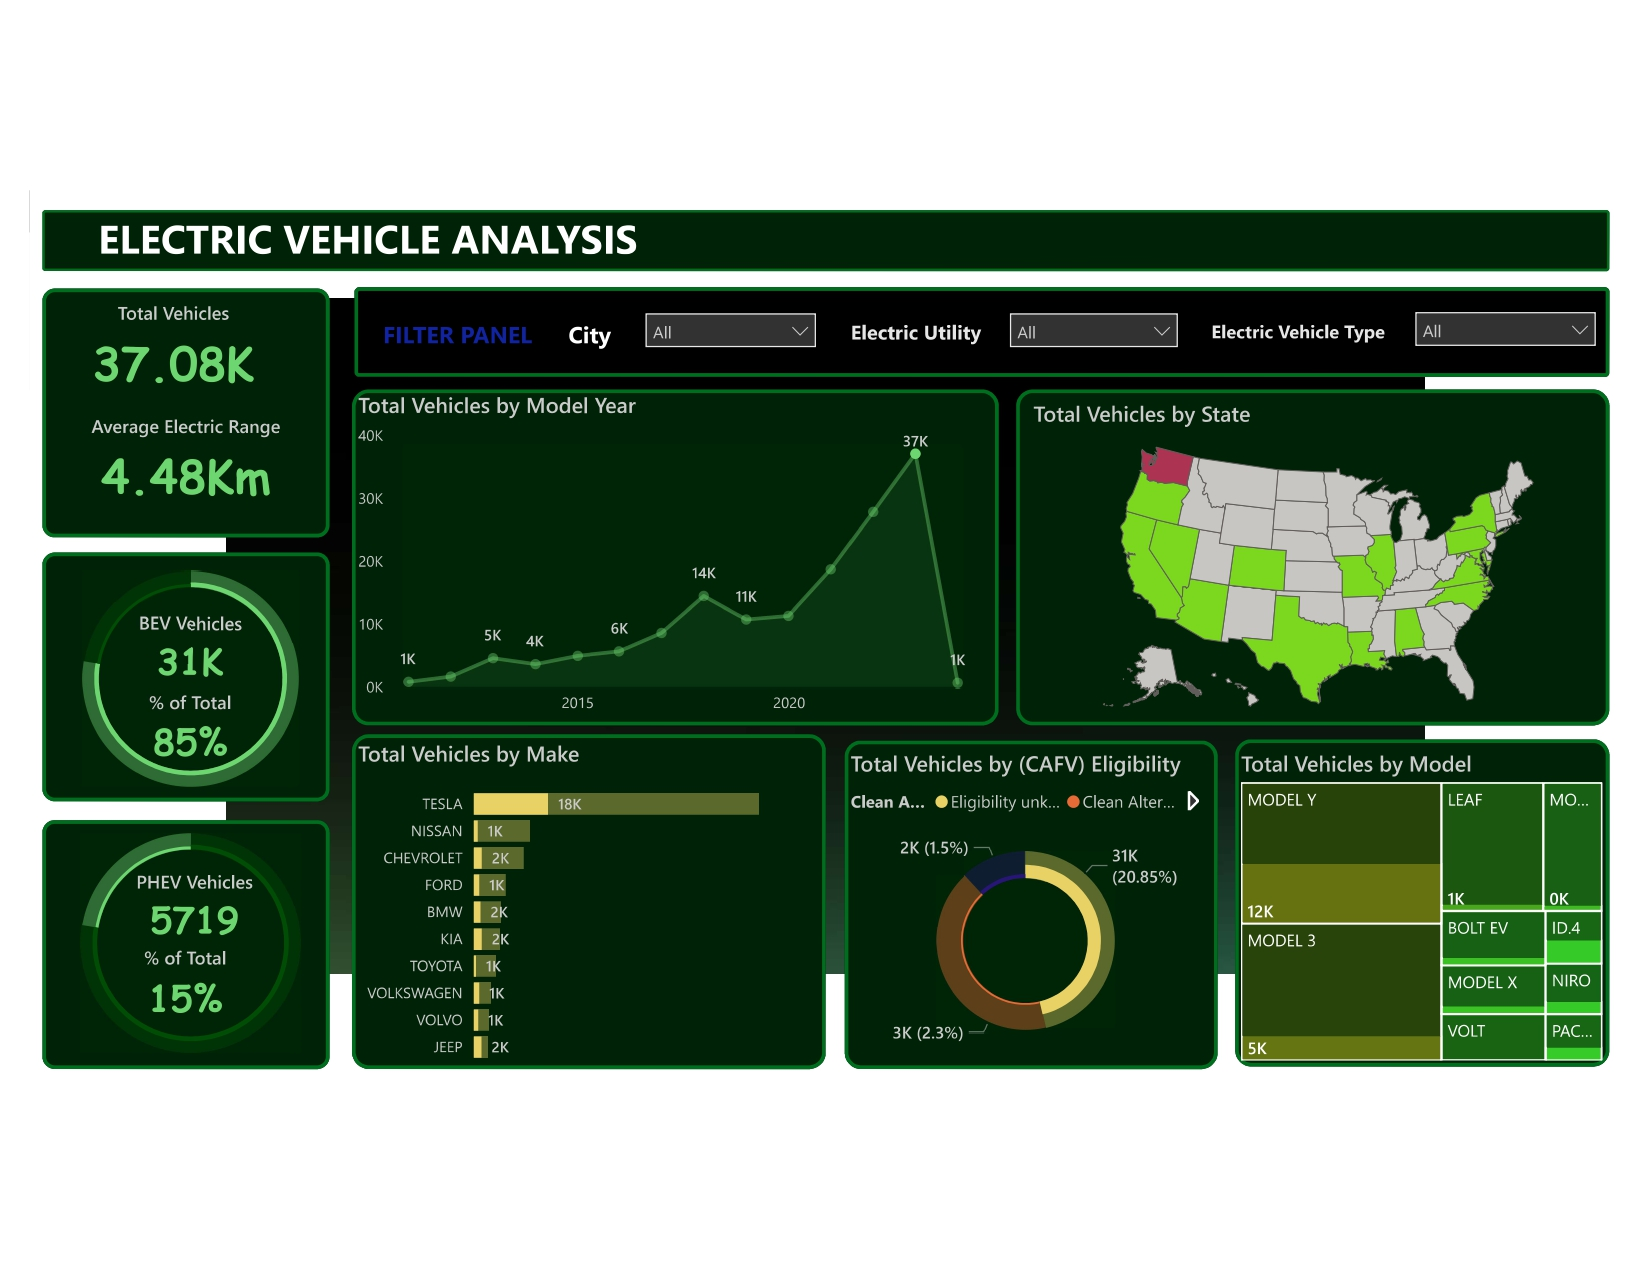

The page's visual inventory and layout, read from the dashboard file:
{"tool":"powerbi","page":{"name":"Page 1","canvas":[1280,720],"ordinal":0},"visuals":[{"type":"shape","box":[9.9,15.6,1260,49.6],"z":0},{"type":"textbox","box":[49.6,11.3,469.1,55.3],"z":1000},{"type":"shape","box":[10,78.6,231.4,200],"z":2000},{"type":"card","title":"Total Vehicles","fields":{"Values":["data.Total Vehicles"]},"box":[0,87.9,231,80.8],"z":3000},{"type":"card","title":"Average Electric Range","fields":{"Values":["data.Avg Range"]},"box":[10,178.6,231.4,80],"z":4000},{"type":"shape","box":[10,291.4,231.4,200],"z":5000},{"type":"shape","box":[10,505.7,231.4,200],"z":6000},{"type":"donutChart","fields":{"Category":["data.Electric Vehicle Type"],"Y":["data.Total Vehicles"]},"box":[0,488.6,258.6,231.4],"z":7000},{"type":"card","title":"BEV Vehicles","fields":{"Values":["data.BEV Vehicles"]},"box":[34.3,337.1,190,64.3],"z":8000},{"type":"card","title":"% of Total","fields":{"Values":["data.% of BEV"]},"box":[34.3,401.4,190,64.3],"z":9000},{"type":"donutChart","fields":{"Category":["data.Electric Vehicle Type"],"Y":["data.Total Vehicles"]},"box":[0,278.6,258.6,227.1],"z":10000},{"type":"card","title":"PHEV Vehicles","fields":{"Values":["data.PHEV Vehicles"]},"box":[35,545,195,63],"z":11000},{"type":"card","title":"% of Total","fields":{"Values":["data.% of PHEV"]},"box":[27.1,605.7,195.7,67.1],"z":12000},{"type":"shape","box":[260.8,78,1009.1,72.3],"z":13000},{"type":"shape","box":[258.6,160,520,270],"z":14000},{"type":"areaChart","fields":{"Category":["data.Model Year"],"Y":["data.Total Vehicles"]},"box":[258.6,160,505.7,270],"z":15000},{"type":"shape","box":[792.9,160,477.1,270],"z":16000},{"type":"shapeMap","fields":{"Category":["data.State"],"Value":["data.Total Vehicles"]},"box":[802.2,167.2,467.7,263.6],"z":17000},{"type":"shape","box":[258.7,436.7,381.3,268.8],"z":18000},{"type":"barChart","fields":{"Category":["data.Make"],"Y":["data.Total Vehicles"]},"box":[258.7,440.1,369.6,270.4],"z":19000},{"type":"shape","box":[654.8,442.2,300.5,263.6],"z":20000},{"type":"donutChart","title":"Total Vehicles by (CAFV) Eligibility","fields":{"Category":["data.Clean Alternative Fuel Vehicle (CAFV) Eligibility"],"Y":["data.Total Vehicles"]},"box":[654.8,447.9,290.6,258],"z":21000},{"type":"shape","box":[969.4,440.8,300.5,263.6],"z":22000},{"type":"treemap","fields":{"Group":["data.Model"],"Values":["data.Total Vehicles"]},"box":[969.4,447.9,299.1,256.5],"z":23000},{"type":"textbox","box":[279.2,97.8,148.8,41.1],"z":24000},{"type":"slicer","fields":{"Values":["data.Electric Utility"]},"box":[778.1,89.3,154.5,51],"z":25000},{"type":"textbox","box":[428,97.8,56.7,41.1],"z":26000},{"type":"slicer","fields":{"Values":["data.City"]},"box":[484.7,89.3,157.3,51],"z":26001},{"type":"slicer","fields":{"Values":["data.Electric Vehicle Type"]},"box":[1104.1,87.9,164.4,51],"z":26002},{"type":"textbox","box":[654.8,97.8,123.3,31.2],"z":26003},{"type":"textbox","box":[945.4,97.8,158.7,41.1],"z":26004}]}

Visuals, with their boxes in screenshot pixels (x1, y1, x2, y2):
shape: rect(59, 208, 1604, 269)
textbox: rect(108, 203, 683, 271)
shape: rect(60, 285, 343, 531)
"Total Vehicles" card: rect(47, 297, 331, 396)
"Average Electric Range" card: rect(60, 408, 343, 506)
shape: rect(60, 546, 343, 792)
shape: rect(60, 809, 343, 1054)
donutChart - data.Electric Vehicle Type x data.Total Vehicles: rect(47, 788, 364, 1072)
"BEV Vehicles" card: rect(89, 602, 322, 681)
"% of Total" card: rect(89, 681, 322, 760)
donutChart - data.Electric Vehicle Type x data.Total Vehicles: rect(47, 531, 364, 809)
"PHEV Vehicles" card: rect(90, 857, 329, 935)
"% of Total" card: rect(80, 932, 320, 1014)
shape: rect(367, 285, 1604, 373)
shape: rect(364, 385, 1002, 716)
areaChart - data.Model Year x data.Total Vehicles: rect(364, 385, 984, 716)
shape: rect(1020, 385, 1605, 716)
shapeMap - data.State x data.Total Vehicles: rect(1031, 394, 1604, 717)
shape: rect(364, 725, 832, 1054)
barChart - data.Make x data.Total Vehicles: rect(364, 729, 818, 1060)
shape: rect(850, 731, 1219, 1054)
"Total Vehicles by (CAFV) Eligibility" donutChart: rect(850, 738, 1207, 1055)
shape: rect(1236, 730, 1604, 1053)
treemap - data.Model x data.Total Vehicles: rect(1236, 738, 1603, 1053)
textbox: rect(390, 309, 572, 359)
slicer - data.Electric Utility: rect(1001, 299, 1191, 361)
textbox: rect(572, 309, 642, 359)
slicer - data.City: rect(642, 299, 834, 361)
slicer - data.Electric Vehicle Type: rect(1401, 297, 1603, 359)
textbox: rect(850, 309, 1001, 347)
textbox: rect(1207, 309, 1401, 359)
